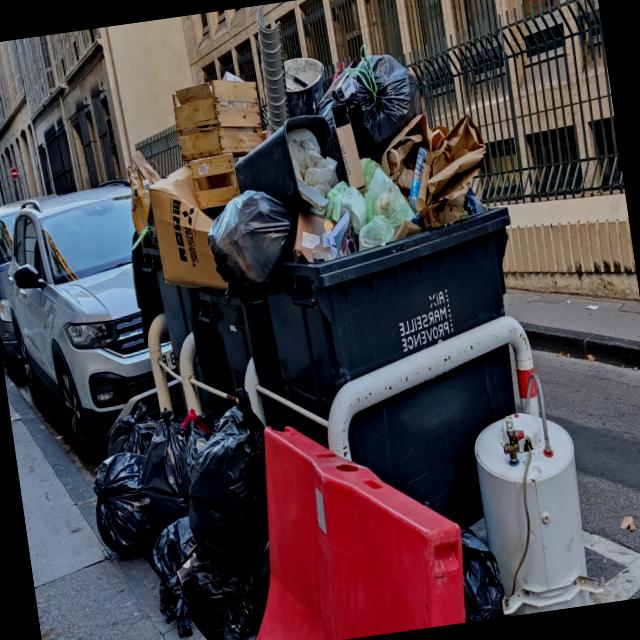garbage: (33, 27, 638, 640)
